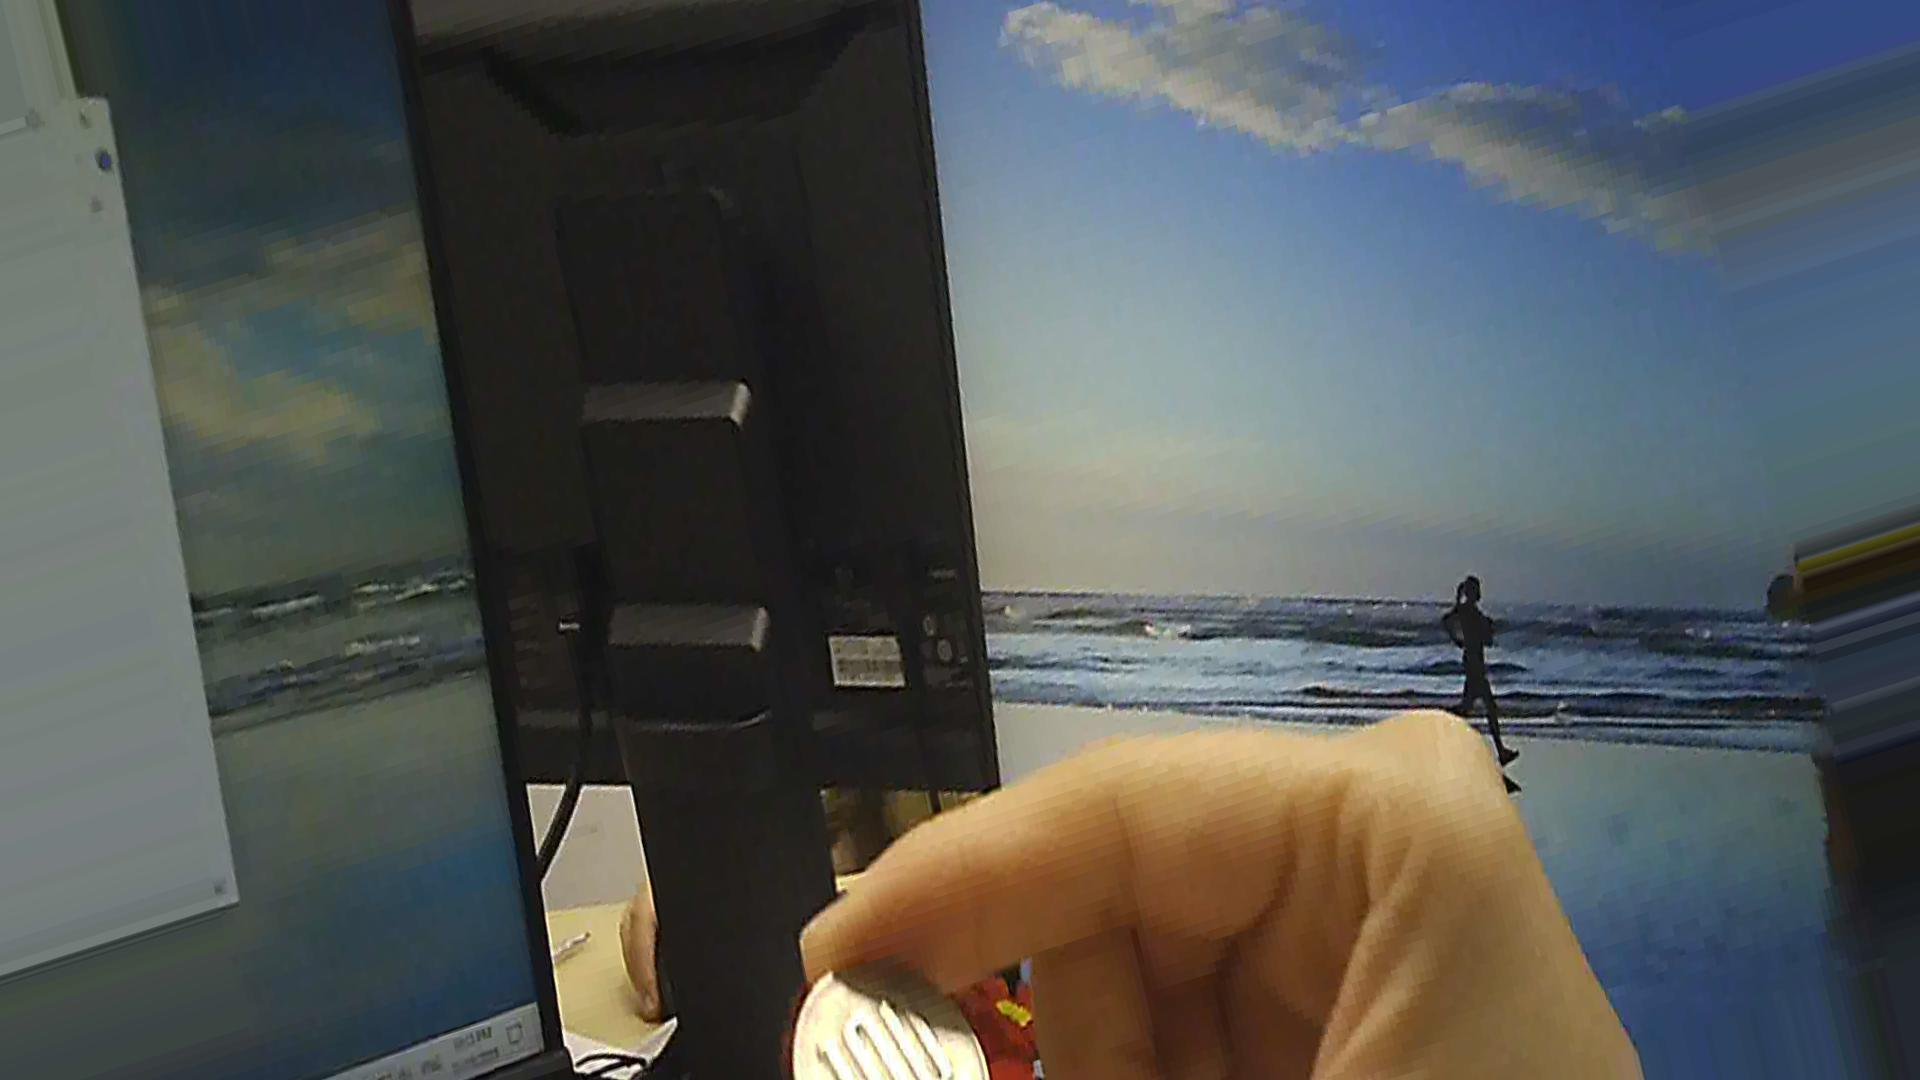100 Yen: (778, 953, 982, 1079)
